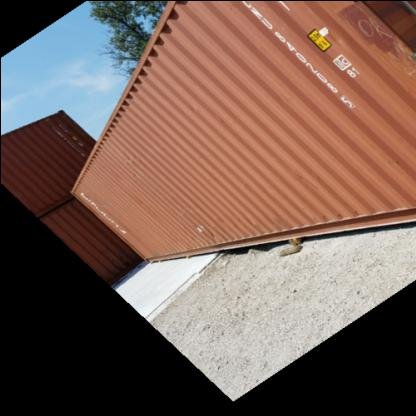Damage: (342, 1, 414, 73), (119, 147, 140, 177), (186, 207, 206, 238)
